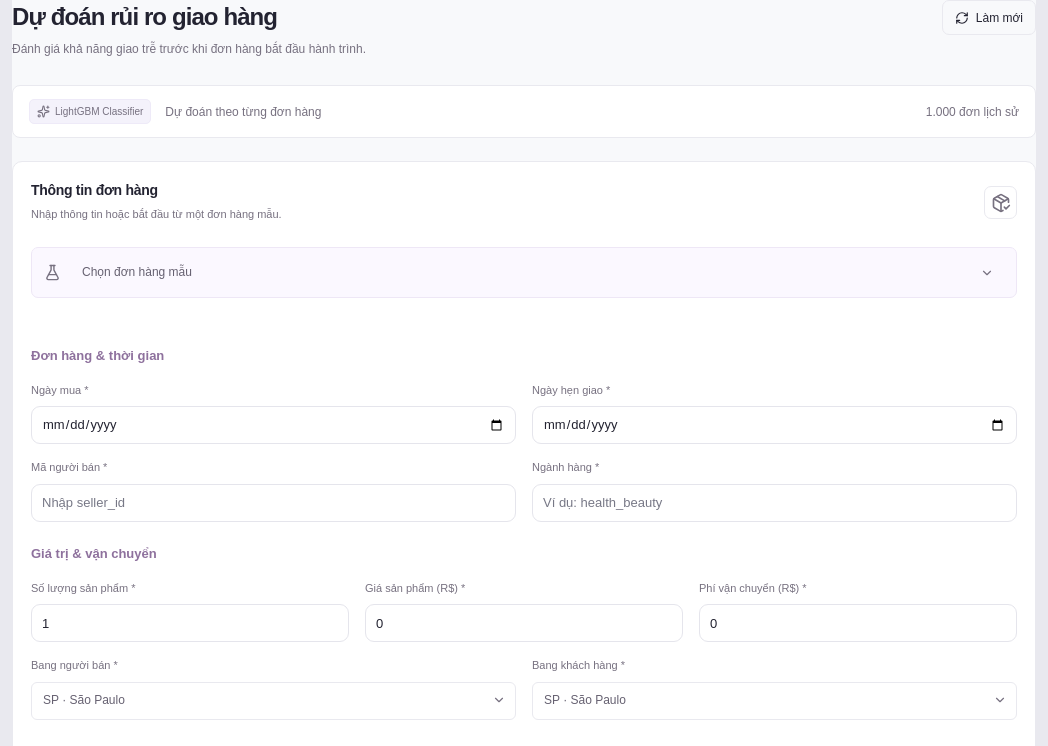
Test: Delivery Risk › loads an example, sends numeric values without labels, uses server risk tiers, and clears stale results
Select "Mẫu 1 · Health Beauty · SP" in the dropdown named "Tải đơn hàng mẫu": (538, 272) x1=71 y1=258 x2=1004 y2=287
(page scrolled)
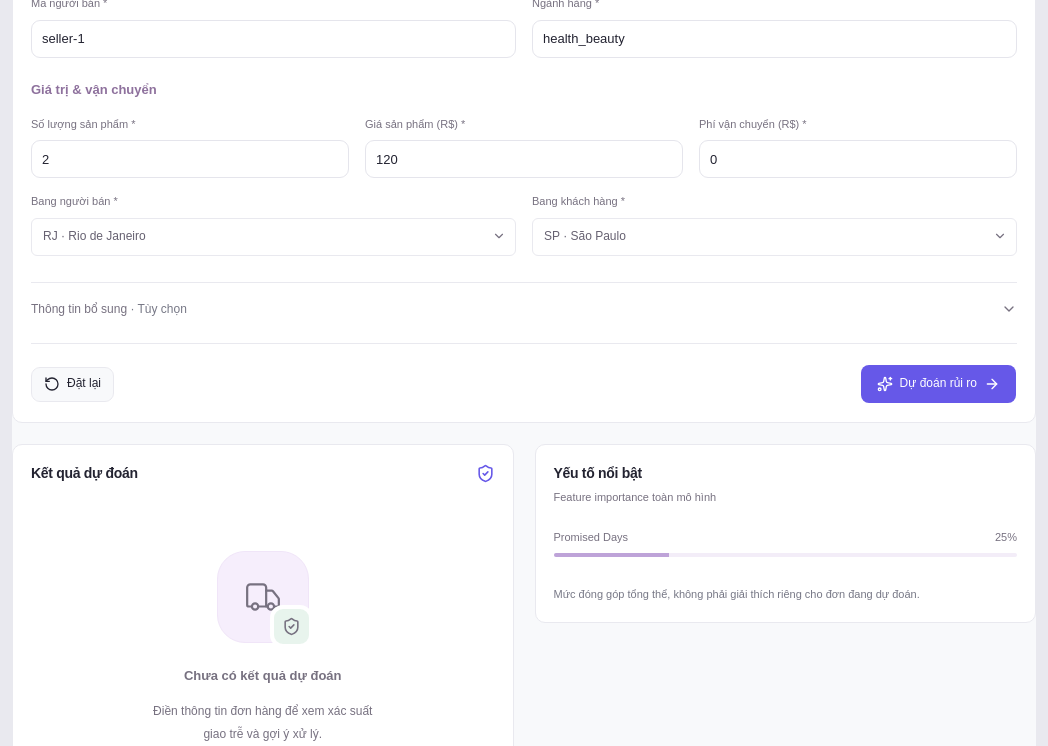
Click the button "Dự đoán rủi ro": click(938, 384) x1=860 y1=364 x2=1017 y2=404
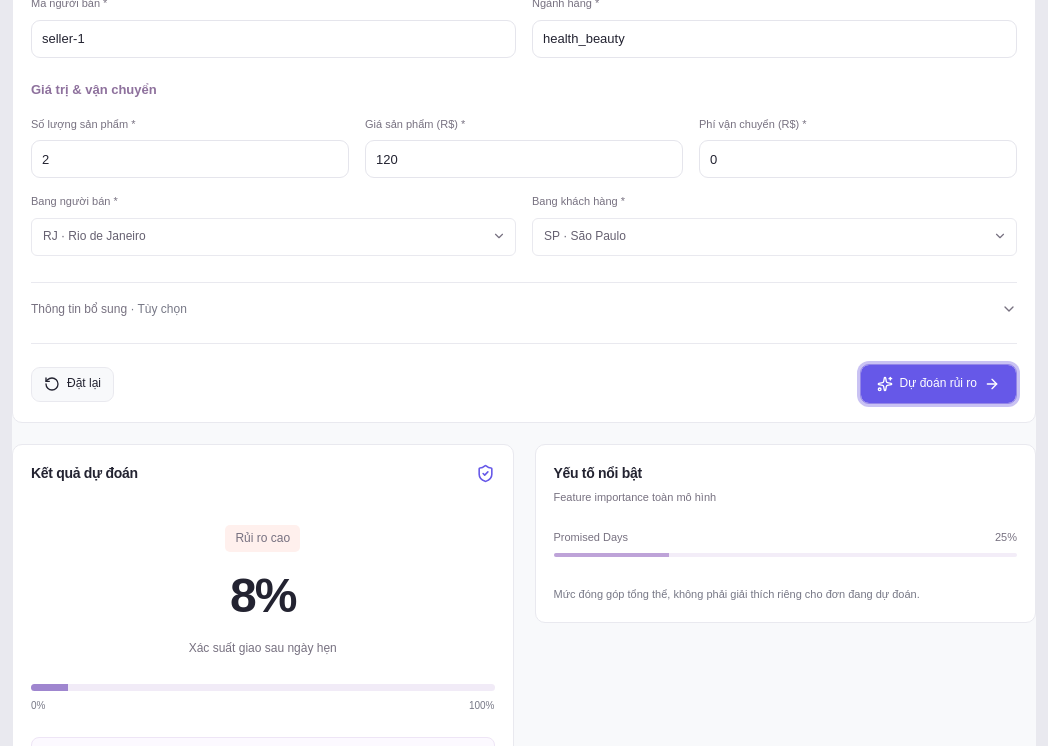
Expected: the text "Rủi ro cao" is shown, x1=225 y1=525 x2=300 y2=552
Expected: the text "8%" is shown, x1=230 y1=567 x2=296 y2=625
In the field labelled "Mã người bán *": (274, 39) x1=31 y1=20 x2=516 y2=58, type "x"
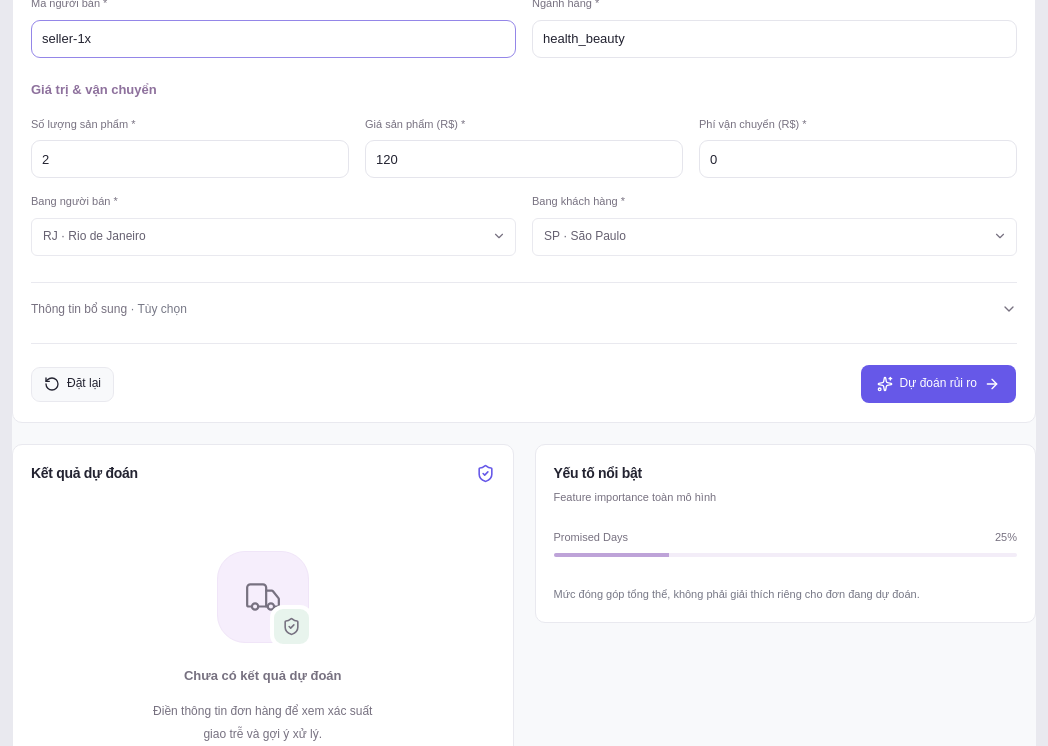
Expected: the text "Rủi ro cao" is gone
